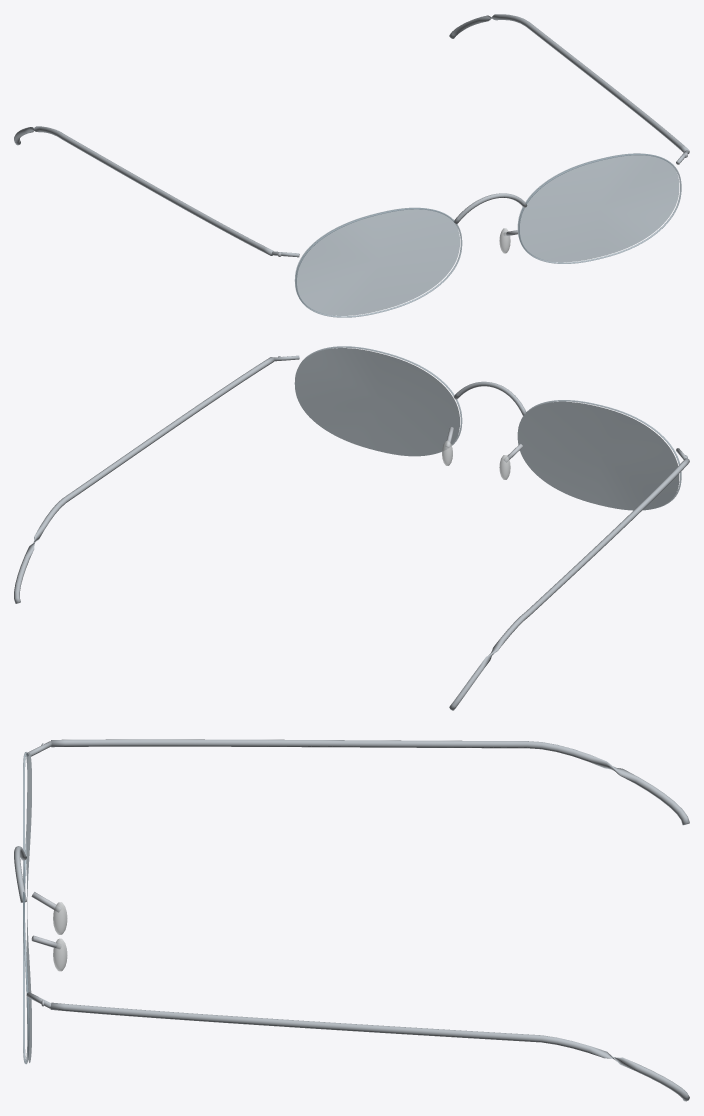
File: tim-12-v1.glb
3 views of the same model, one above another, from view 1: azimuth 30°, elevation 25°; view 2: azimuth 150°, elevation 25°; view 3: azimuth 270°, elevation 25° (orthographic). The views are drawn at different scales.
Parts seen in each view (by area): view 1: lens_right, lens_left, temple_right, temple_left, polished_glass_edge_right, polished_glass_edge_left; view 2: lens_left, lens_right, temple_left, temple_right; view 3: temple_right, temple_left, polished_glass_edge_left, lens_right, lens_left.
Boxes of the visible parts, x1,y1,x2,y2 form: lens_right: (294,207,459,315); lens_left: (517,153,679,262); temple_right: (14,126,273,255); temple_left: (449,14,689,153); polished_glass_edge_right: (295,208,462,317); polished_glass_edge_left: (518,153,681,263); lens_left: (294,348,459,456); lens_right: (517,401,679,510); temple_left: (14,357,274,603); temple_right: (449,458,689,710); temple_right: (51,739,689,825); temple_left: (50,1002,689,1101); polished_glass_edge_left: (23,892,29,1064); lens_right: (26,753,31,897); lens_left: (26,898,31,1062).
Bounding box in the file's own units: 0.1547 × 0.0315 × 0.149.
